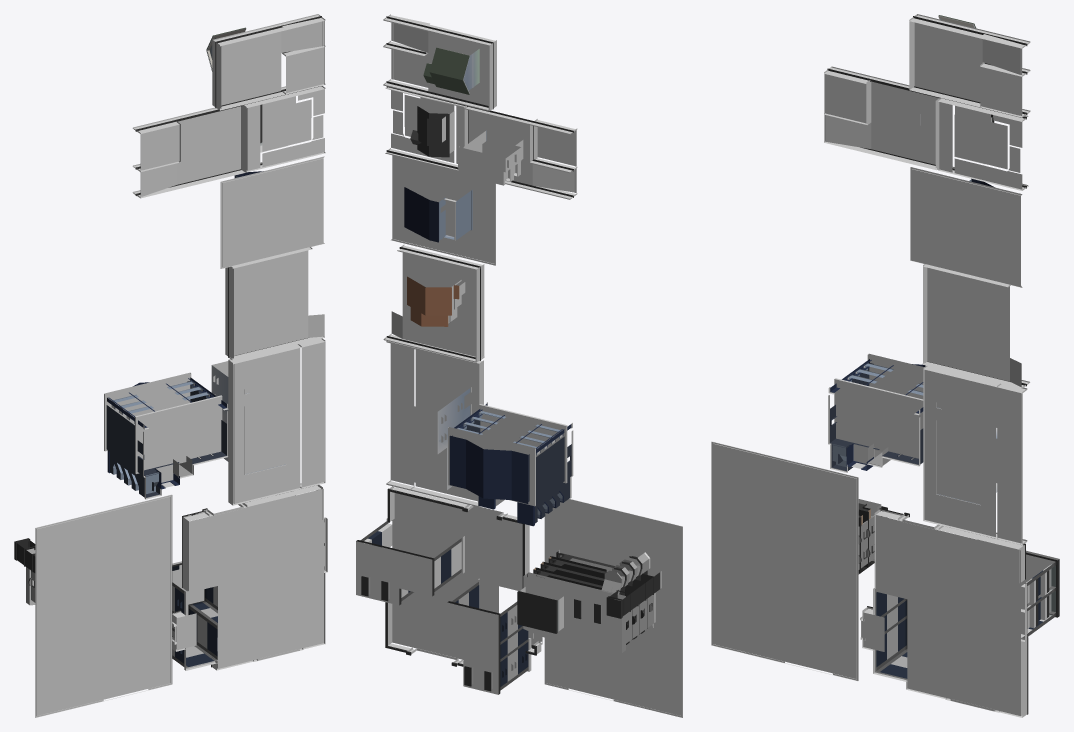
The model's file is SM_000271_merge_w40h101_atlas1_1_1_ground_lv4.fbx.
3 renders of one model, left to right at view 1: azimuth 30°, elevation 25°; view 2: azimuth 150°, elevation 25°; view 3: azimuth 330°, elevation 25°, orthographic. The views are drawn at different scales.
Visible parts, largest first — view 1: SM_000271.001; view 2: SM_000271.001; view 3: SM_000271.001.
Boxes of the visible parts, x1,y1,x2,y2 form: SM_000271.001: (14,14,327,717); SM_000271.001: (356,14,682,717); SM_000271.001: (711,14,1059,717).
Size of the model in its own units: 60.48 by 124 by 16.93.
